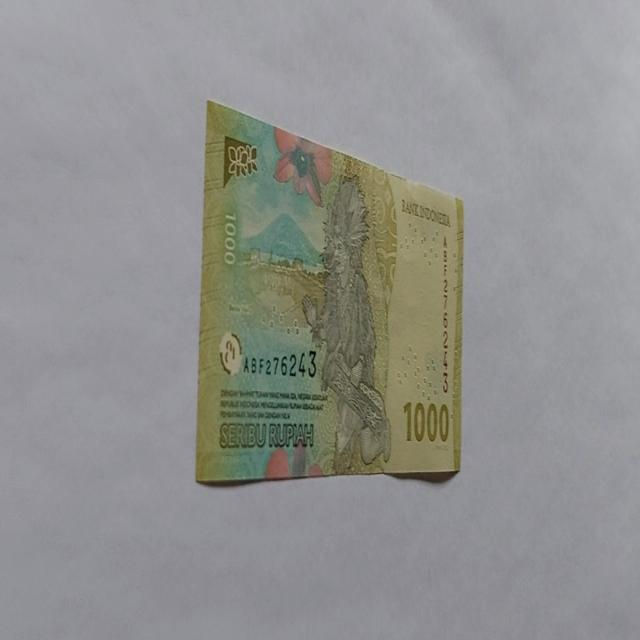seribu rupiah kertas: (195, 98, 464, 486)
